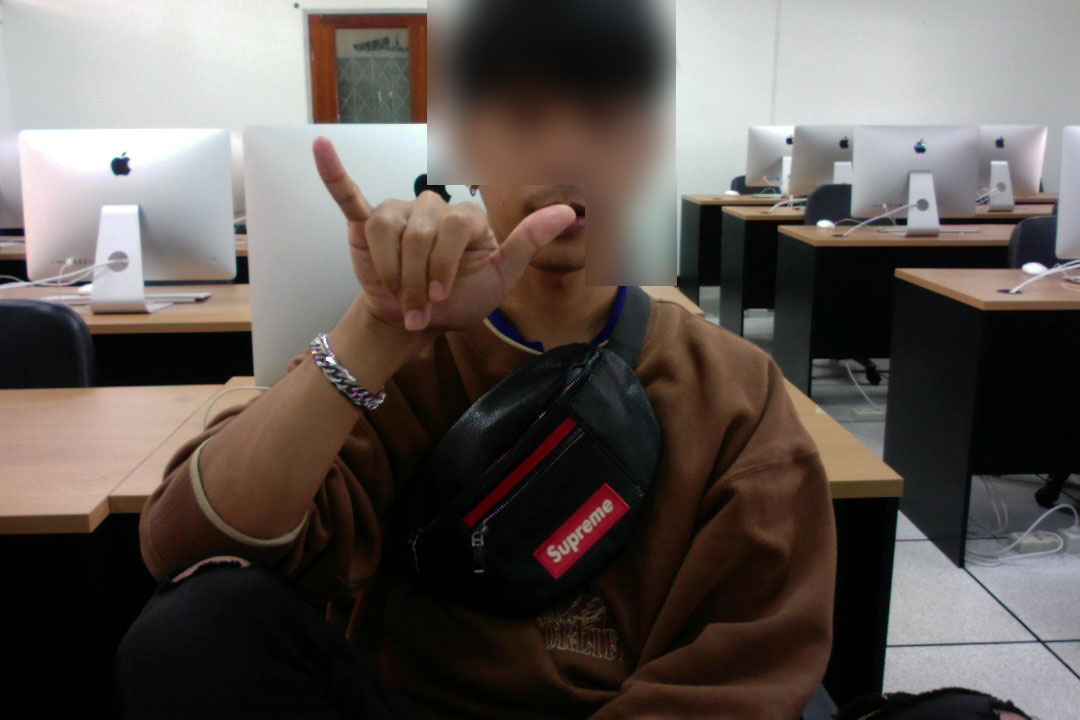yor: (306, 127, 584, 368)
